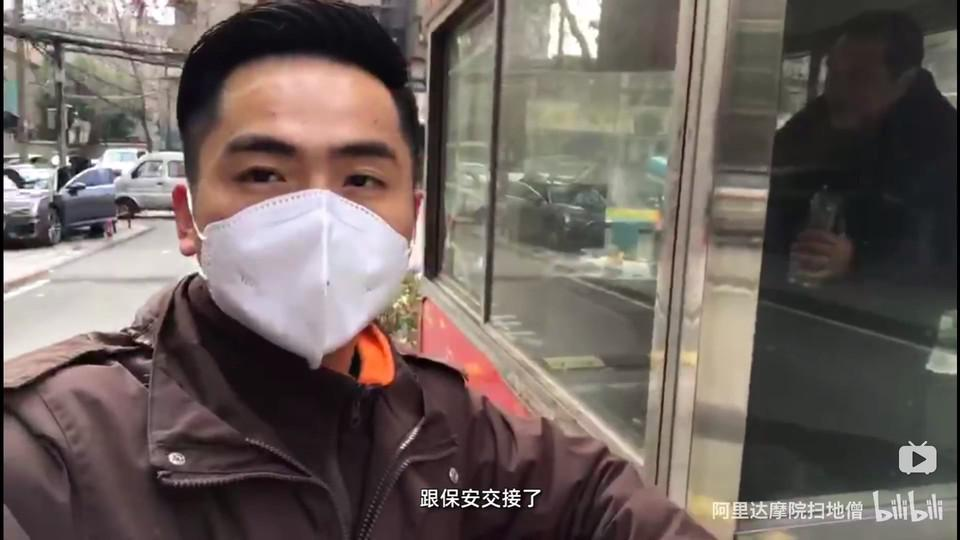NONE: (823, 53, 887, 135)
OK: (203, 94, 417, 359)
